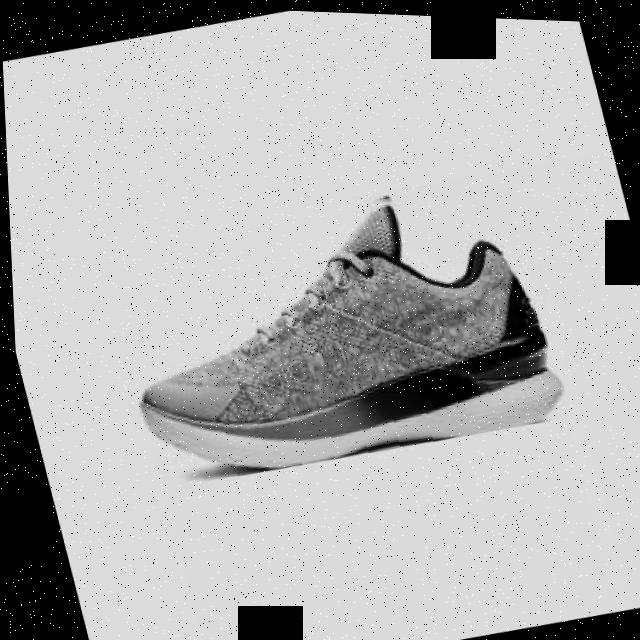shoe: (95, 158, 566, 497), (131, 193, 562, 470)
